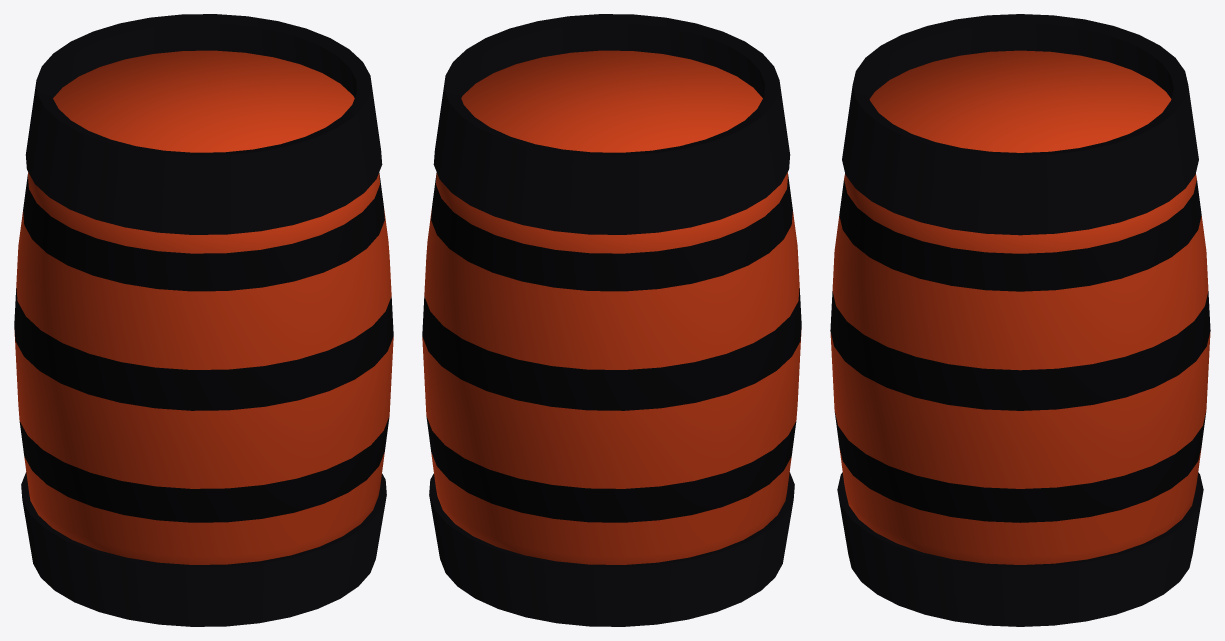
File: Barrel.obj
3 views of the same model, side by side, from view 1: azimuth 30°, elevation 25°; view 2: azimuth 150°, elevation 25°; view 3: azimuth 270°, elevation 25° (orthographic).
Parts seen in each view (by area): view 1: Barrel; view 2: Barrel; view 3: Barrel.
Boxes of the visible parts, x1,y1,x2,y2 form: Barrel: (14,14,393,626); Barrel: (422,14,801,626); Barrel: (830,14,1210,626).
Size of the model in its own units: 0.448 by 0.6102 by 0.448.
